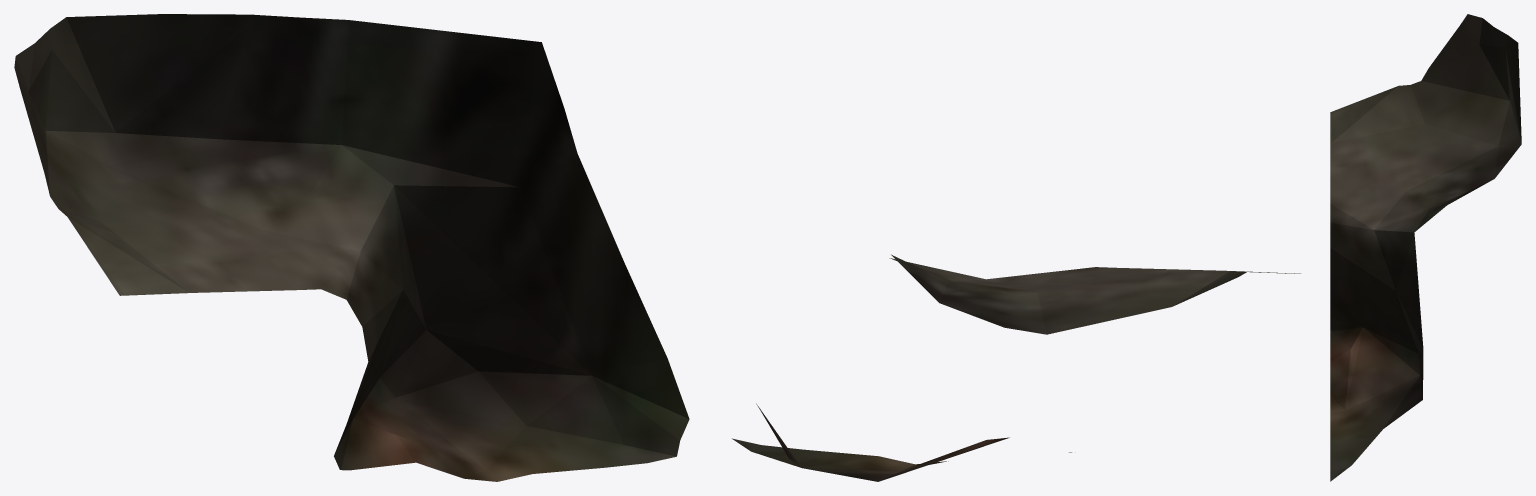
The picture shows the model from 3 angles, left to right: view 1: azimuth 30°, elevation 25°; view 2: azimuth 150°, elevation 25°; view 3: azimuth 270°, elevation 25°; orthographic projection. The views are drawn at different scales.
Size of the model in its own units: 0.4693 by 0.3523 by 0.2101.
1 material, 1 textured.
